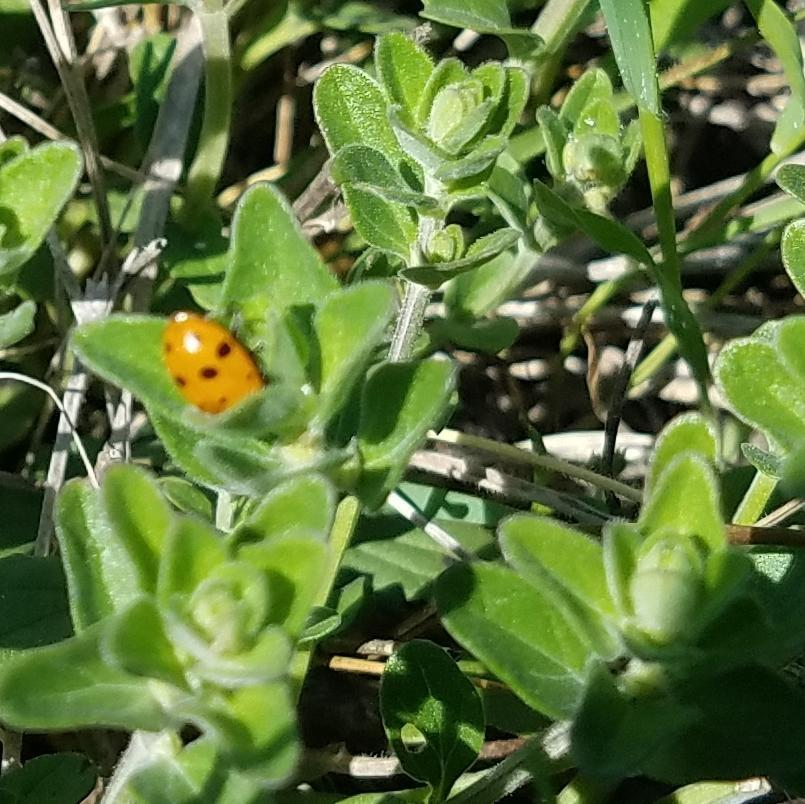ladybug: (159, 307, 273, 419)
